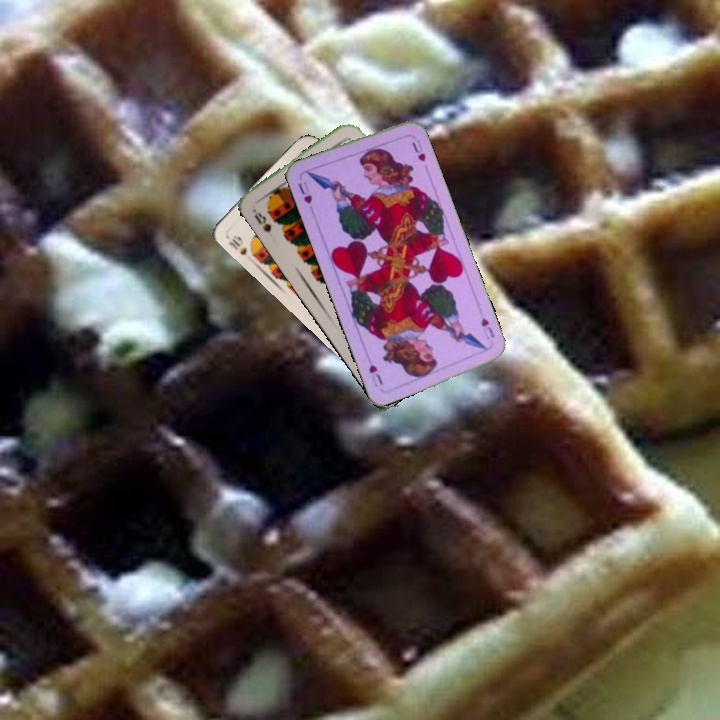HU: (294, 177, 316, 214), (477, 314, 497, 340)
S10: (222, 231, 258, 260)
S8: (248, 204, 274, 235)
